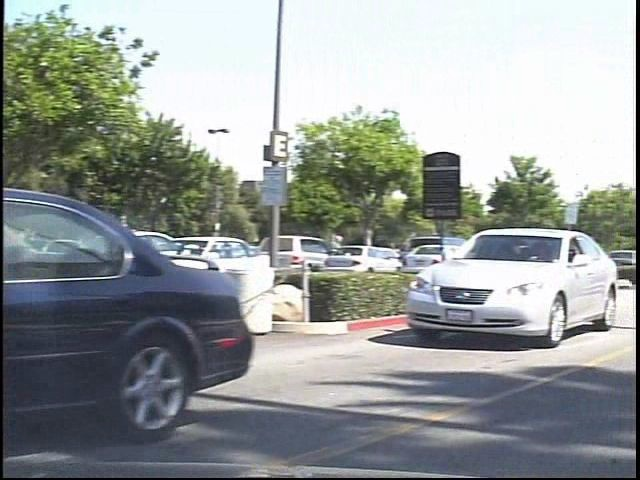person: (334, 228, 361, 279)
